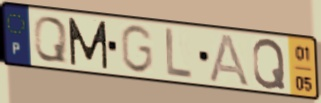A: (207, 32, 252, 89)
G: (118, 23, 155, 76)
L: (164, 26, 194, 82)
M: (66, 16, 111, 71)
Q: (250, 37, 287, 91), (32, 15, 69, 65)
